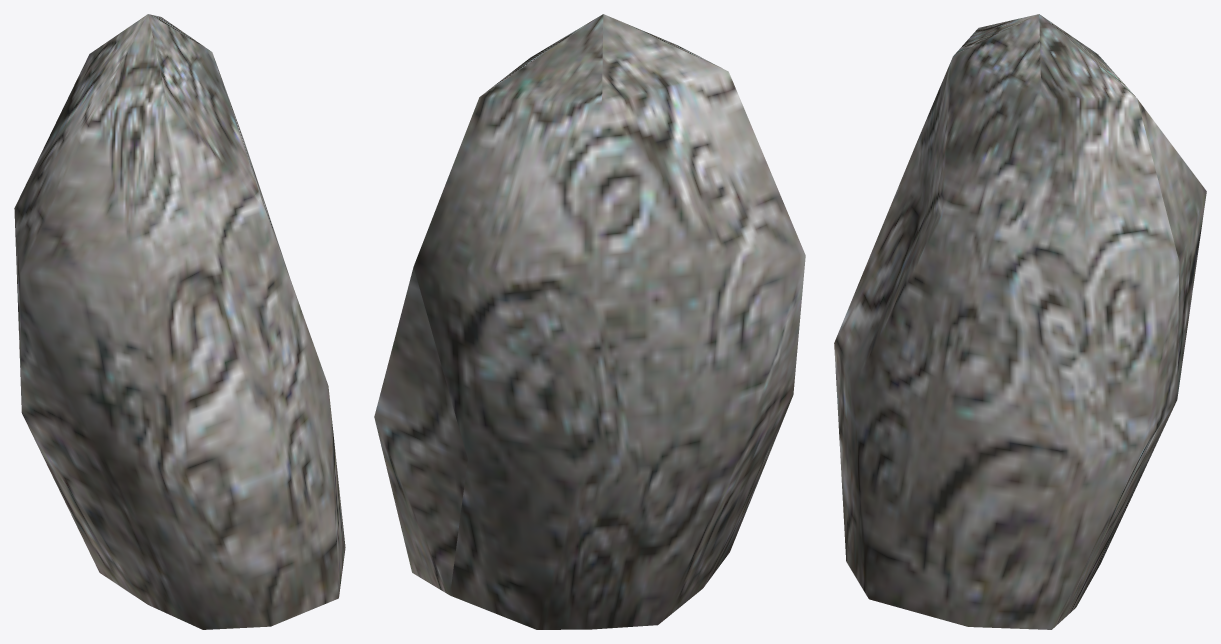
File: menhir_d.glb
The picture shows the model from 3 angles, left to right: view 1: azimuth 30°, elevation 25°; view 2: azimuth 150°, elevation 25°; view 3: azimuth 270°, elevation 25°; orthographic projection. The views are drawn at different scales.
Parts seen in each view (by area): view 1: Modelo; view 2: Modelo; view 3: Modelo.
Part boxes in pixels (x1=…): Modelo: x1=14, y1=14, x2=345, y2=629; Modelo: x1=374, y1=14, x2=805, y2=629; Modelo: x1=834, y1=14, x2=1206, y2=629.
Bounding box in the file's own units: 0.845 × 1.35 × 0.8514.
1 material, 1 textured.
